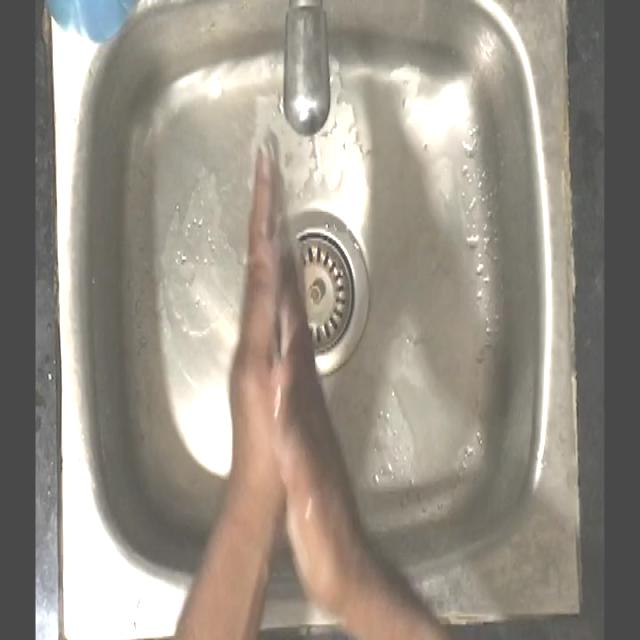step_1: (202, 107, 342, 465)
